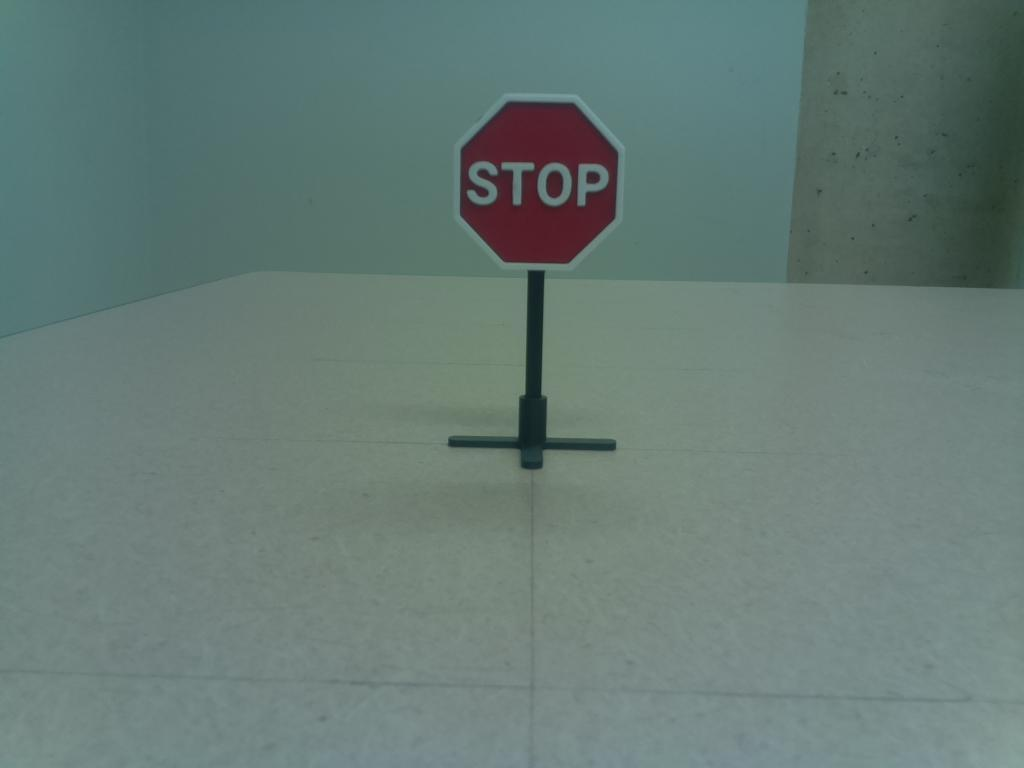sign_stop: (445, 88, 635, 275)
